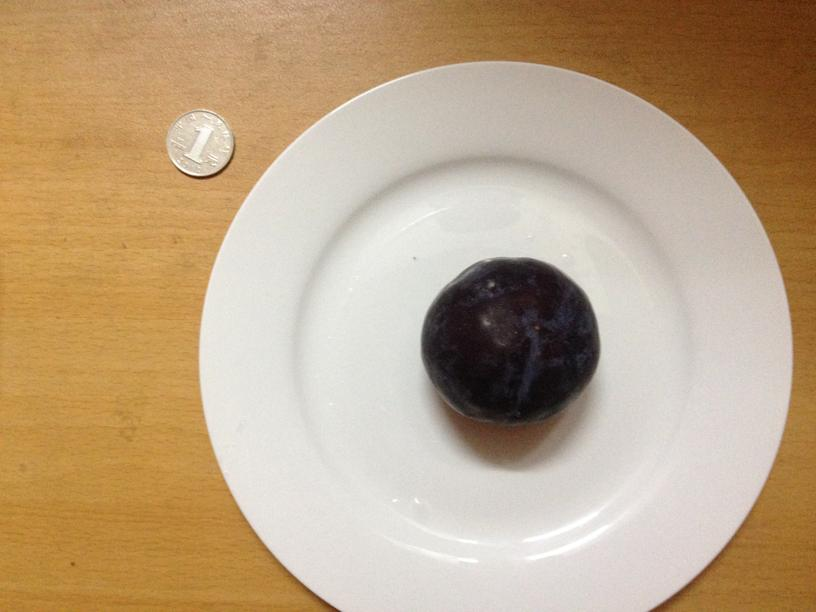coin: (161, 109, 235, 178)
plum: (418, 259, 599, 425)
